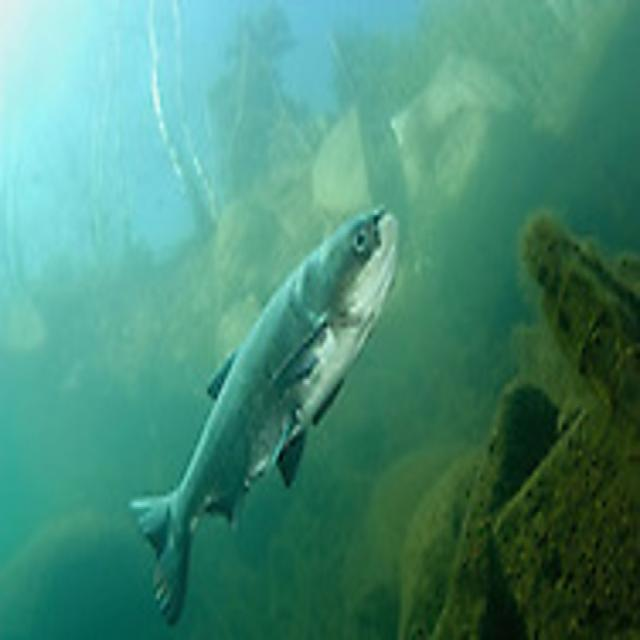Big-Head-Carp: (115, 96, 412, 636)
